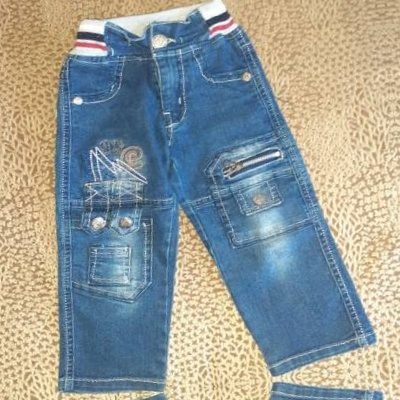Pants: (5, 0, 391, 399), (51, 374, 400, 400), (0, 0, 345, 4)
